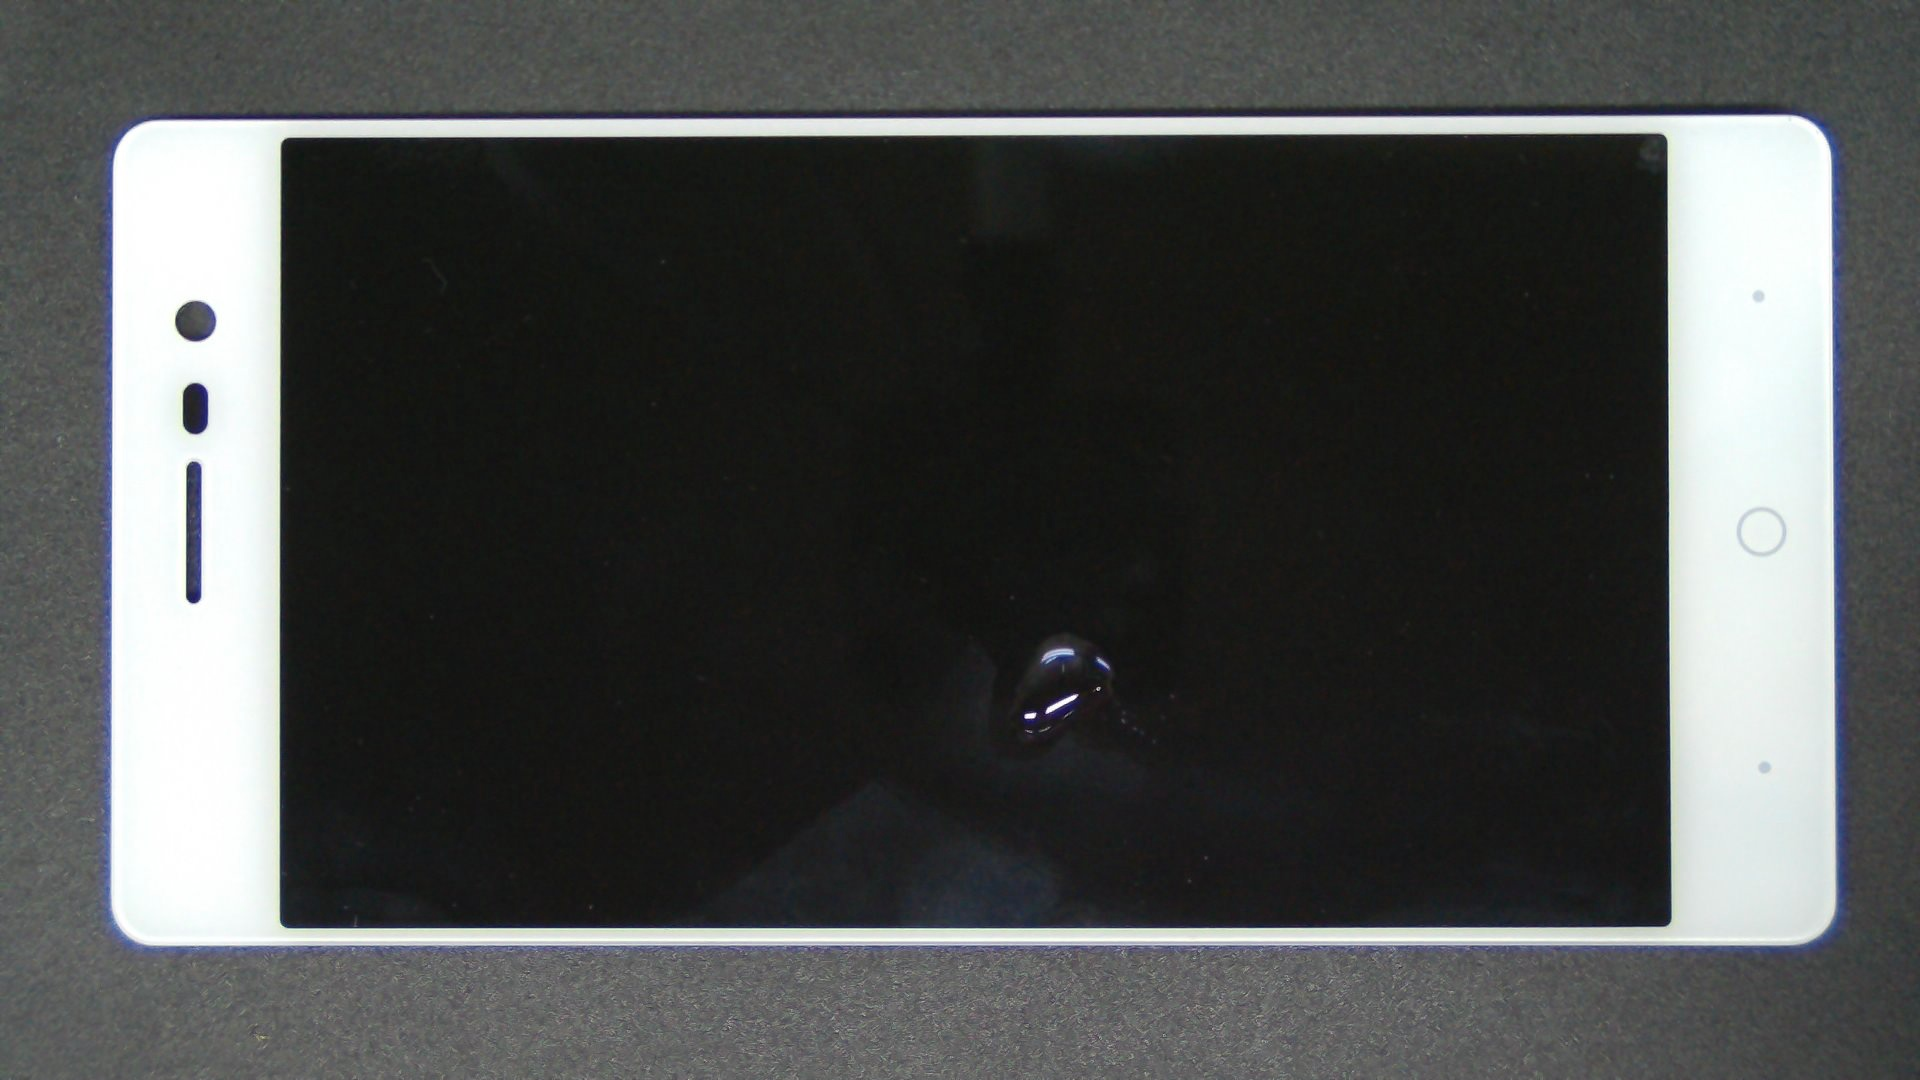oil: (531, 315, 1593, 948)
